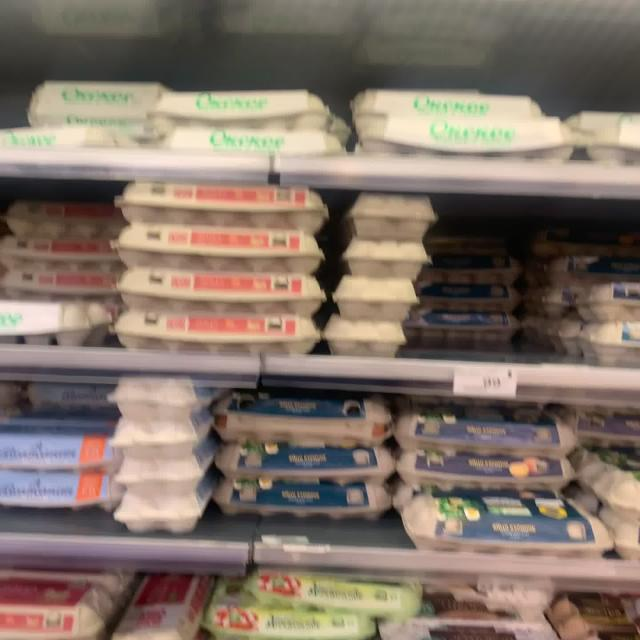egg box: (103, 218, 324, 270), (110, 180, 323, 231), (403, 499, 614, 550), (110, 265, 326, 314), (363, 113, 572, 162), (105, 308, 322, 353), (343, 81, 545, 124), (389, 401, 575, 446), (233, 568, 419, 613), (210, 477, 394, 520), (140, 86, 328, 128), (202, 436, 394, 476), (396, 447, 577, 489), (204, 393, 392, 433), (105, 570, 210, 638), (197, 600, 378, 639), (147, 117, 336, 149), (30, 80, 164, 123), (0, 464, 119, 511), (0, 424, 123, 468), (402, 305, 524, 342), (3, 201, 114, 238), (0, 121, 124, 148), (0, 232, 101, 263), (2, 268, 112, 296), (412, 276, 515, 304)
